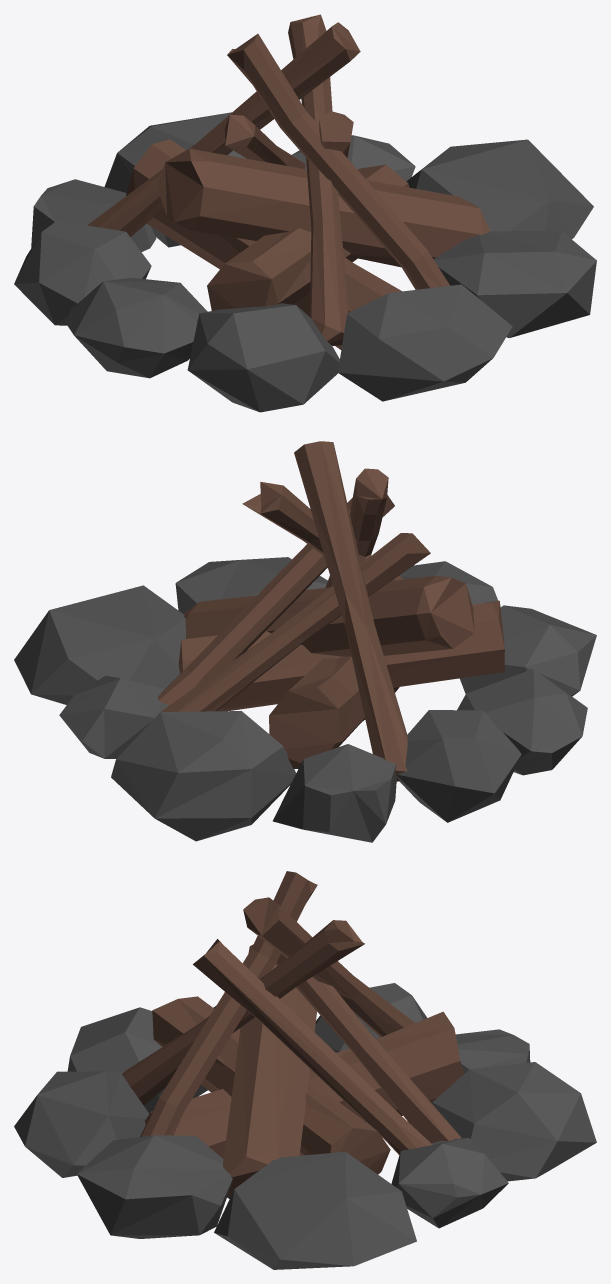
File: Campfire.fbx
3 views of the same model, one above another, from view 1: azimuth 30°, elevation 25°; view 2: azimuth 150°, elevation 25°; view 3: azimuth 270°, elevation 25° (orthographic). The views are drawn at different scales.
Visible parts, largest first — view 1: Stones, logs; view 2: Stones, logs; view 3: Stones, logs.
Part boxes in pixels (box(x1,y1,x2,y2)): Stones: box(14, 112, 596, 412); logs: box(87, 14, 489, 349); Stones: box(14, 557, 596, 842); logs: box(158, 441, 504, 781); Stones: box(14, 983, 596, 1269); logs: box(122, 871, 464, 1198).
Bounding box in the file's own units: 83.45 × 46.3 × 83.27.
